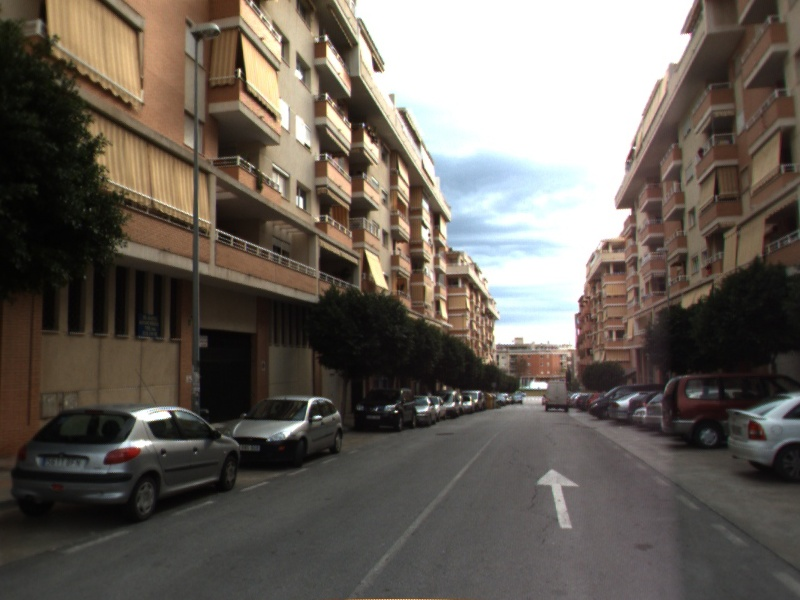STRAIGHT: (532, 467, 582, 530)
